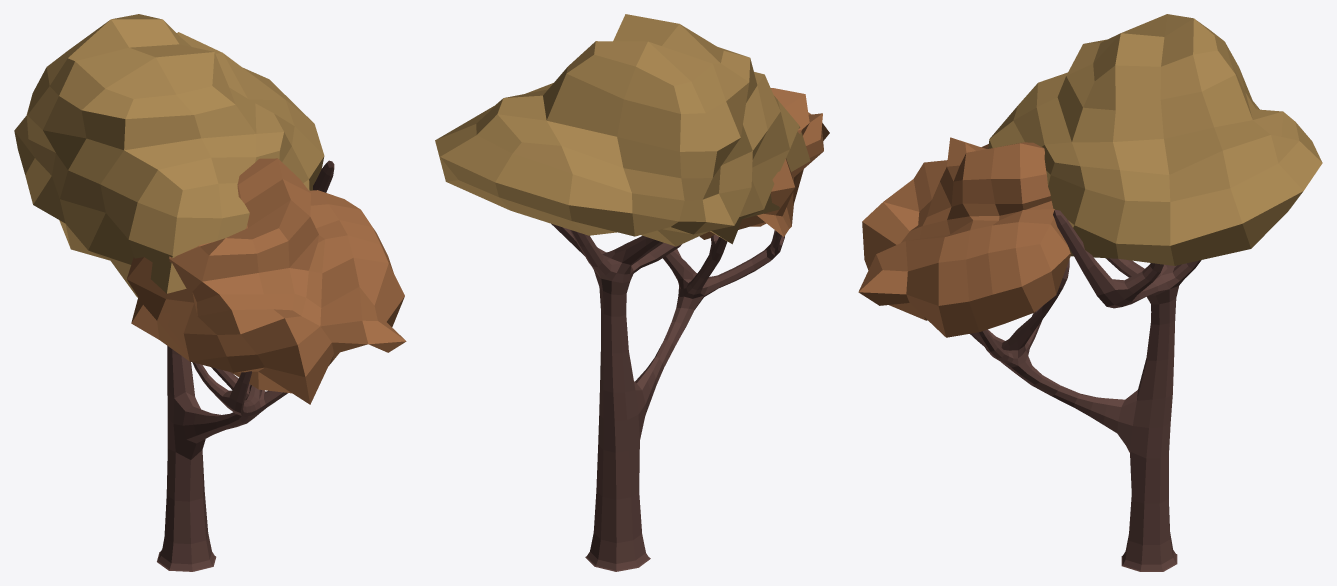
The model's file is autumn-2.glb.
3 renders of one model, left to right at view 1: azimuth 30°, elevation 25°; view 2: azimuth 150°, elevation 25°; view 3: azimuth 270°, elevation 25°, orthographic. The views are drawn at different scales.
Visible parts, largest first — view 1: CommonTree_Autumn_2; view 2: CommonTree_Autumn_2; view 3: CommonTree_Autumn_2.
Boxes of the visible parts, <box> form: CommonTree_Autumn_2: <box>14,14,406,571</box>; CommonTree_Autumn_2: <box>435,14,829,571</box>; CommonTree_Autumn_2: <box>858,14,1322,571</box>.
Bounding box in the file's own units: 1.66 × 3.12 × 2.54.
